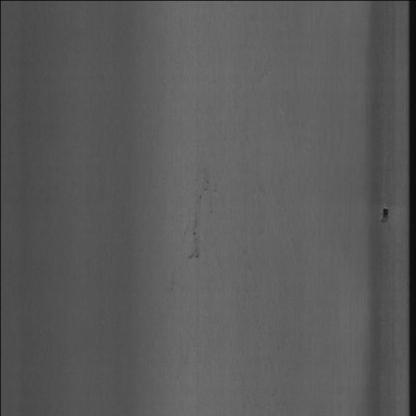inclusion: (175, 171, 215, 266), (379, 202, 389, 235)
